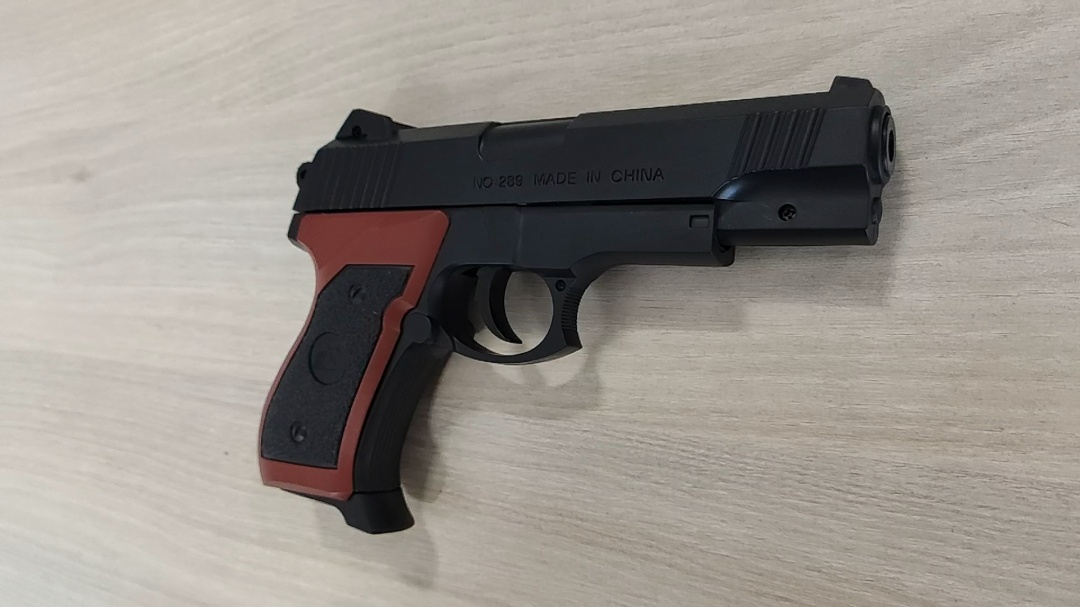gun: (501, 337, 535, 421)
